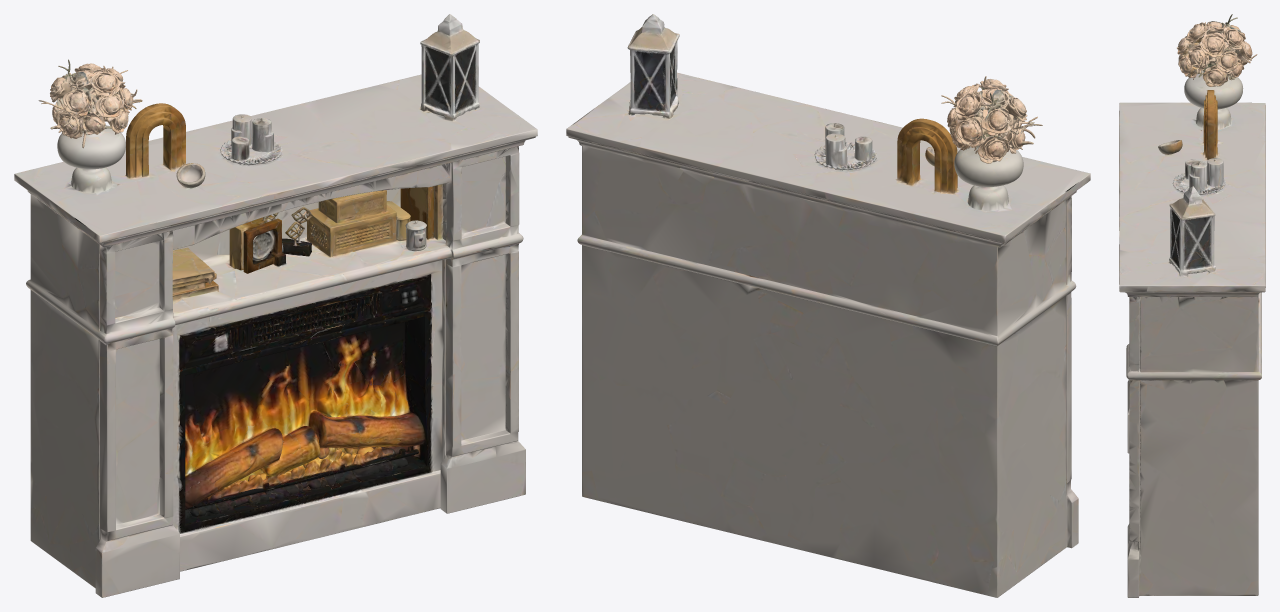
The model's file is kamin-01.glb.
The picture shows the model from 3 angles, left to right: view 1: azimuth 30°, elevation 25°; view 2: azimuth 150°, elevation 25°; view 3: azimuth 270°, elevation 25°; orthographic projection. The views are drawn at different scales.
Bounding box in the file's own units: 1.78 × 1.9 × 0.603.
Materials: 1 (1 with a texture image).
